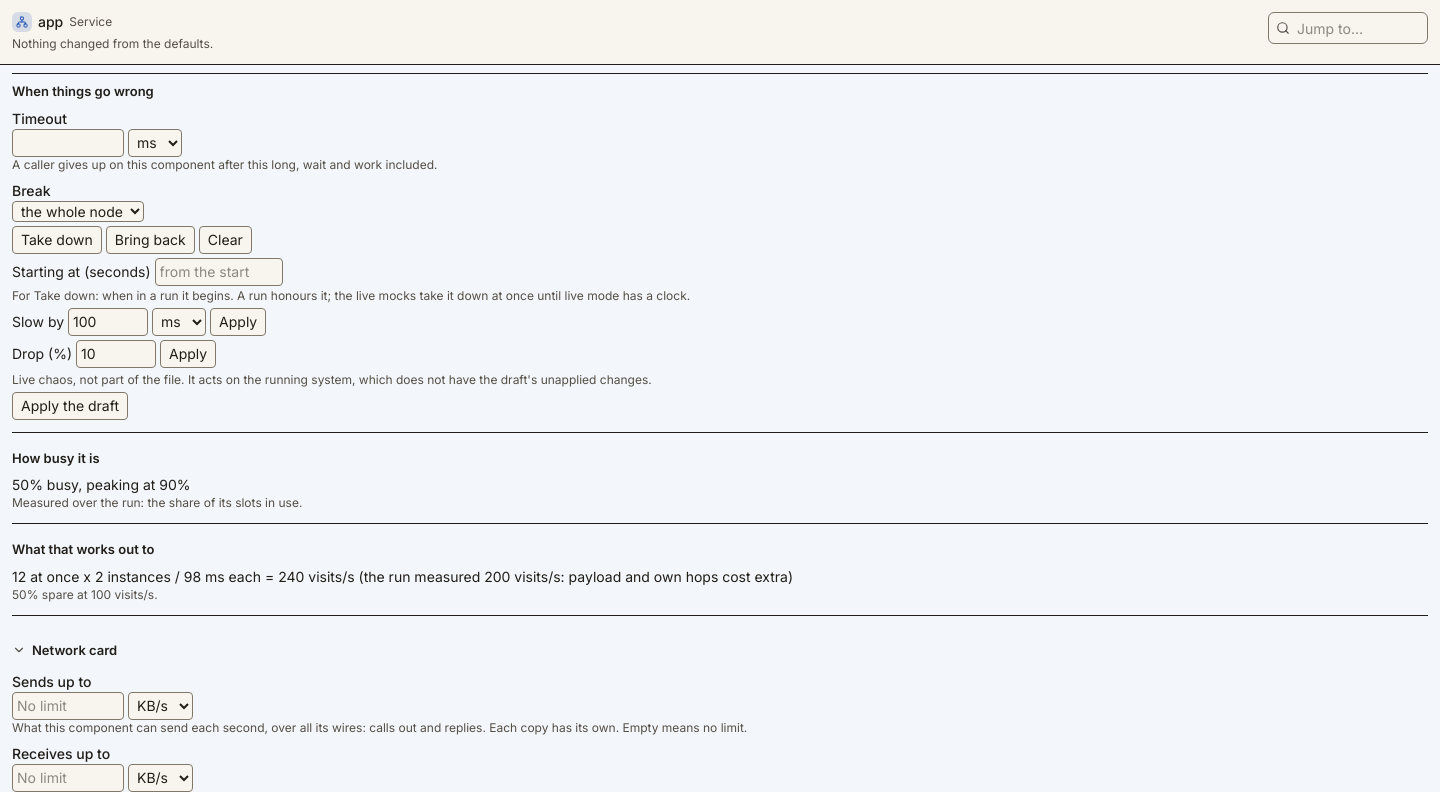
Scenario: an_unapplied_draft_offers_apply_in_the_chaos_panel_and_says_what_chaos_hits
This screenshot has width=1440, height=792.
(page scrolled)
expect the text "does not have the draft's unapplied changes" is shown: met, box [12,372,652,387]
expect the button "Take down" is enabled: met, box [12,226,102,254]
Click the button "Apply the draft": {"x": 70, "y": 406} [12,392,128,420]
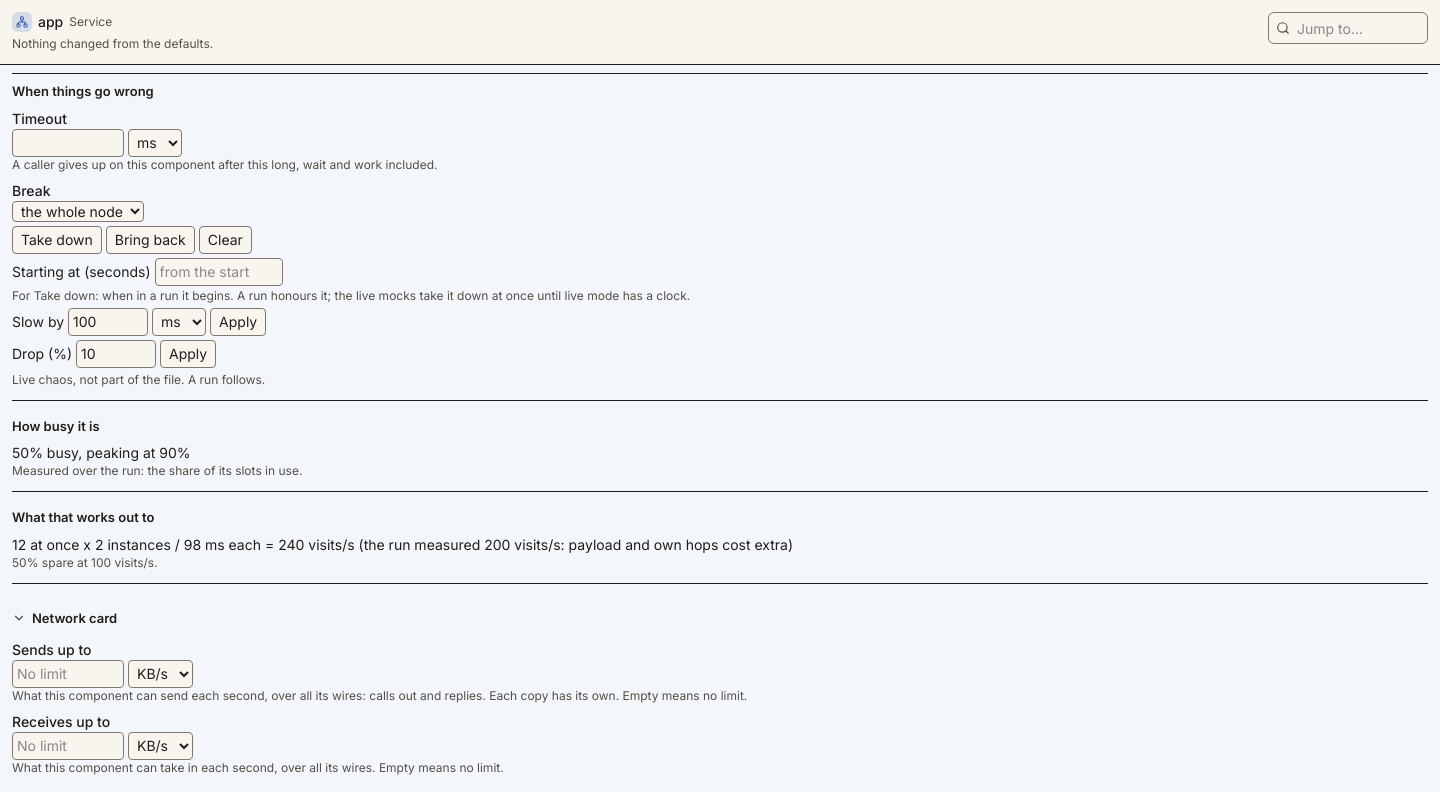
expect the button "Apply the draft" is gone: met
